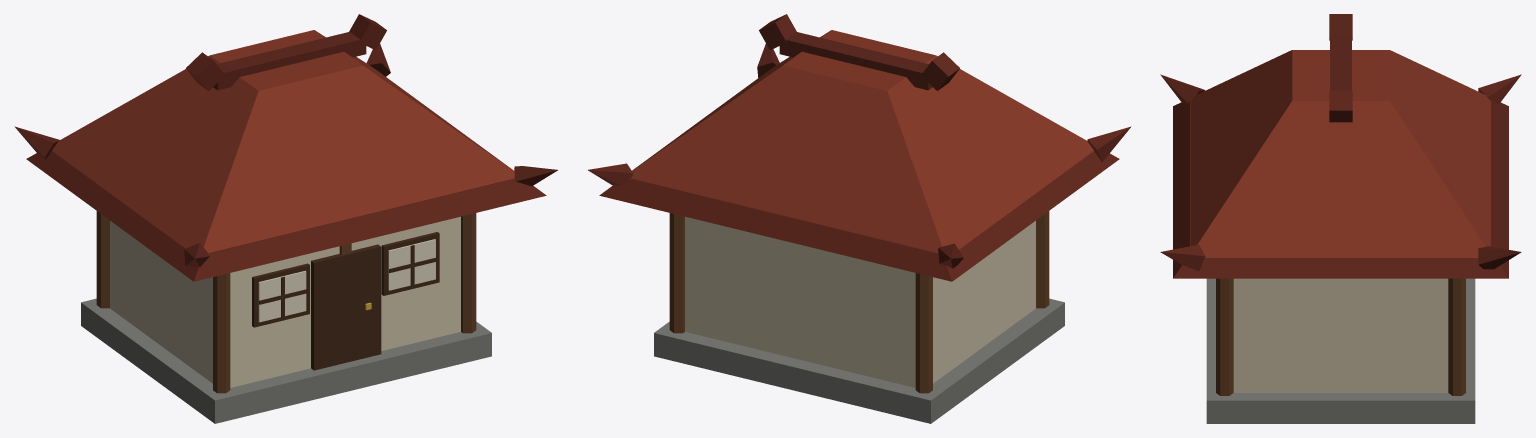
Rendered from SM_GZ_house_ember_2.fbx.
3 renders of one model, left to right at view 1: azimuth 30°, elevation 25°; view 2: azimuth 150°, elevation 25°; view 3: azimuth 270°, elevation 25°, orthographic.
Visible parts, largest first — view 1: SM_GZ_house_ember_2; view 2: SM_GZ_house_ember_2; view 3: SM_GZ_house_ember_2.
Part boxes in pixels (x1=…): SM_GZ_house_ember_2: x1=14, y1=14, x2=557, y2=423; SM_GZ_house_ember_2: x1=588, y1=14, x2=1131, y2=423; SM_GZ_house_ember_2: x1=1160, y1=14, x2=1521, y2=423.
Bounding box in the file's own units: 814 × 649 × 700.
